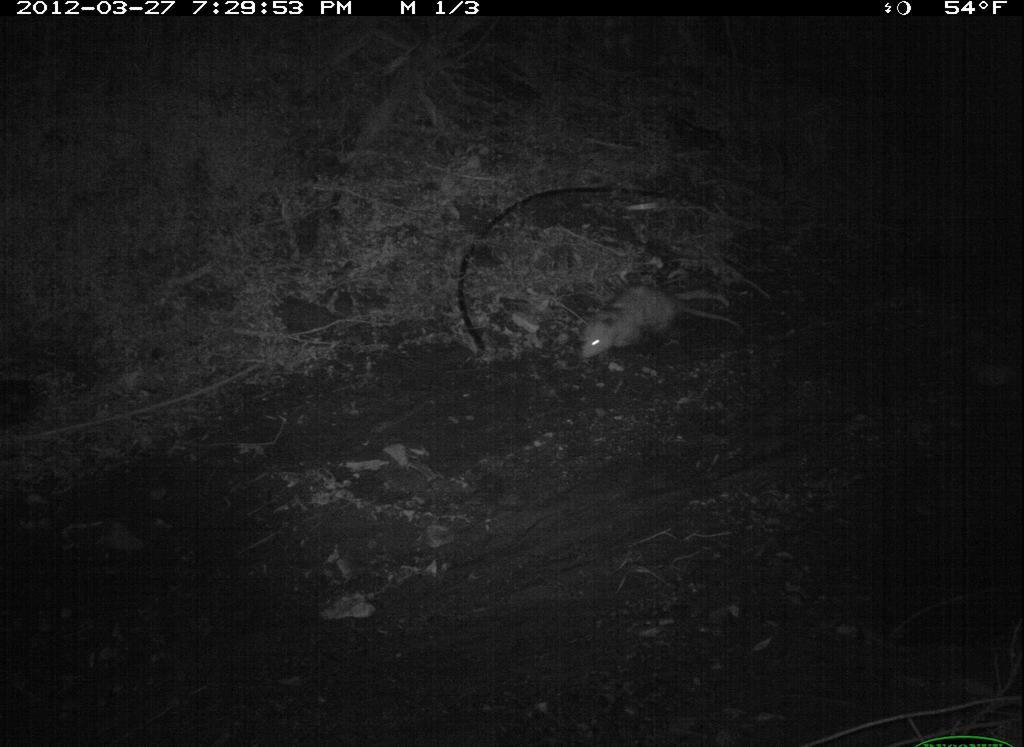opossum: (569, 280, 758, 378)
